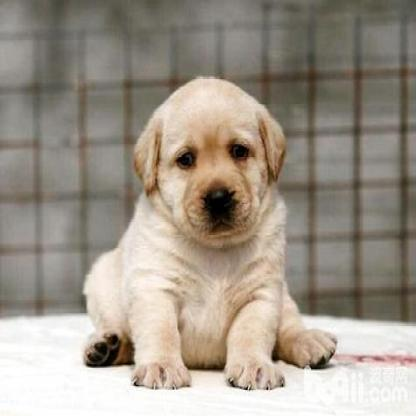dog: (75, 80, 339, 391)
